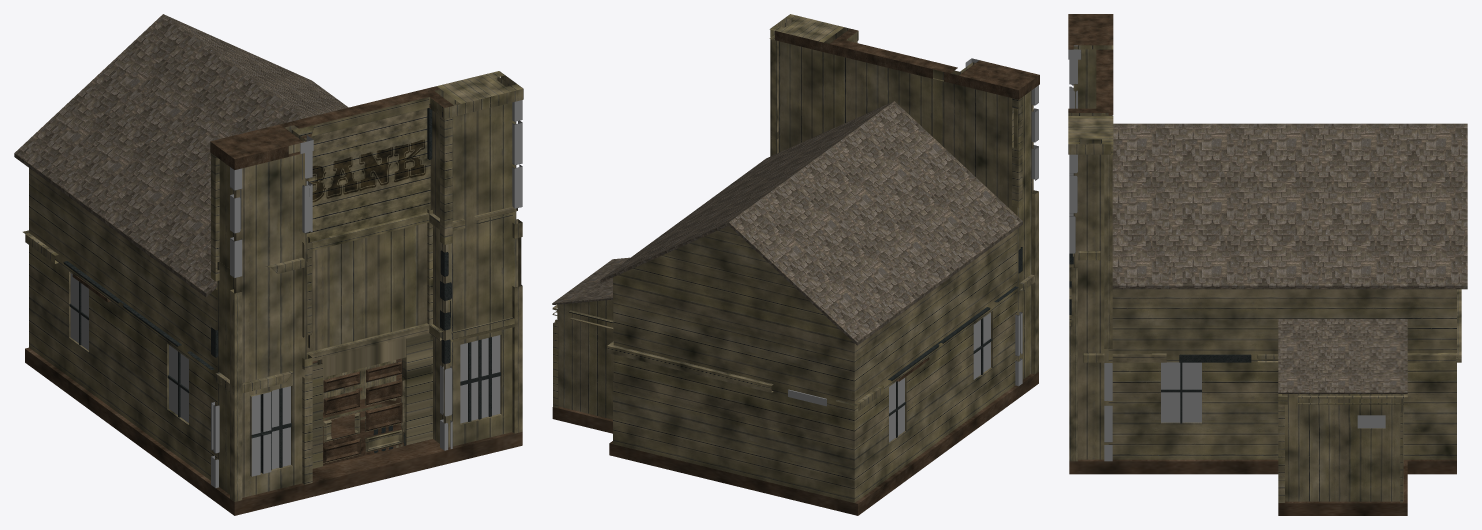
The model's file is bank1.fbx.
3 views of the same model, side by side, from view 1: azimuth 30°, elevation 25°; view 2: azimuth 150°, elevation 25°; view 3: azimuth 270°, elevation 25° (orthographic). The views are drawn at different scales.
Visible parts, largest first — view 1: Base, Roofs, Woods, Logo, Object001, Woods001; view 2: Base, Roofs, Woods; view 3: Roofs, Base, Woods.
Boxes of the visible parts, x1,y1,x2,y2 form: Base: (25,77,522,515); Roofs: (14,14,348,297); Woods: (23,71,523,501); Logo: (292,97,430,242); Object001: (323,360,405,465); Woods001: (310,324,429,468); Base: (552,19,1038,515); Roofs: (552,101,1022,345); Woods: (552,14,1039,411); Roofs: (1112,123,1467,393); Base: (1069,45,1456,515); Woods: (1068,14,1461,502).
Size of the model in its own units: 326 by 288 by 316.
